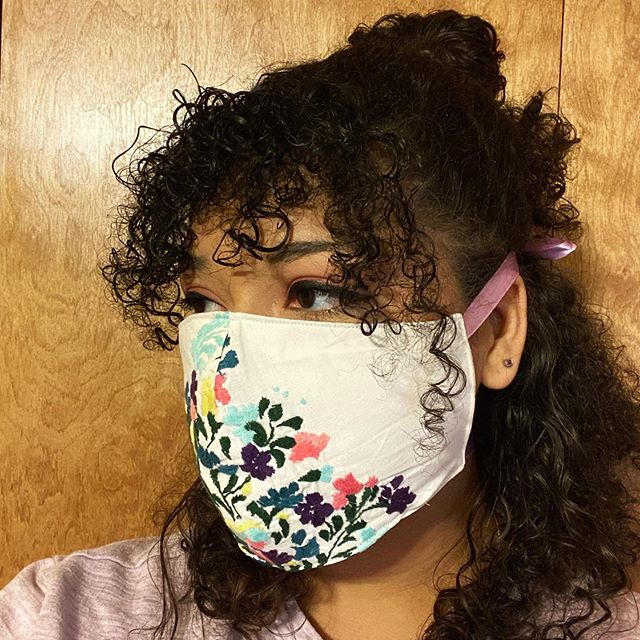homemade: (159, 312, 483, 571)
